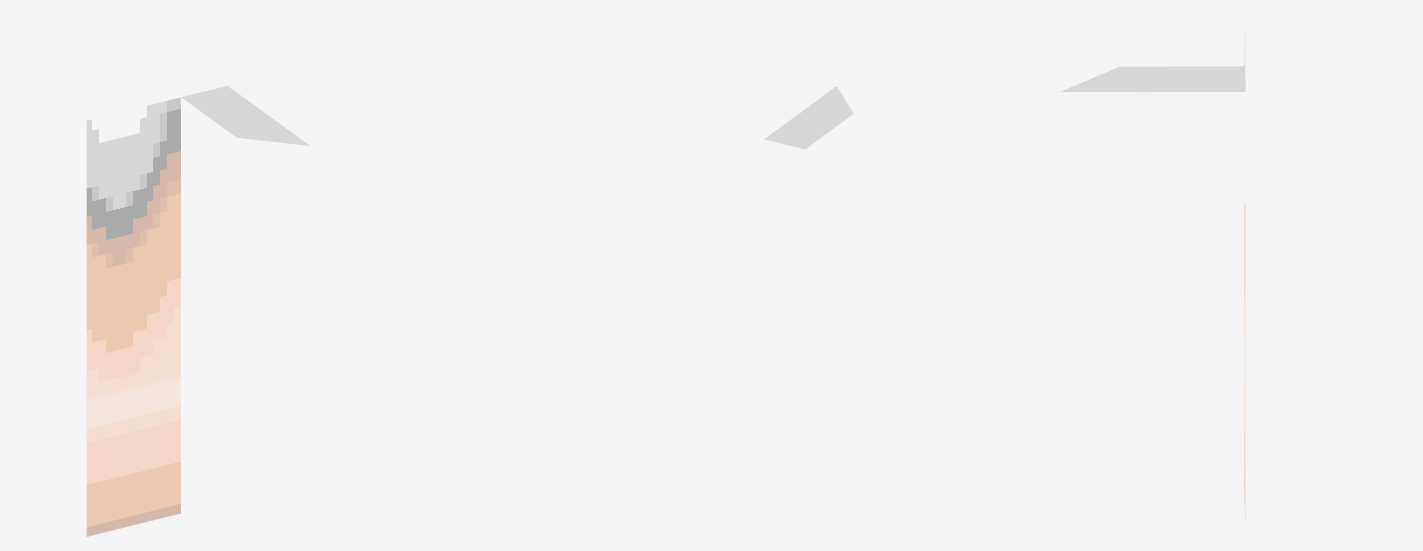
The picture shows the model from 3 angles, left to right: view 1: azimuth 30°, elevation 25°; view 2: azimuth 150°, elevation 25°; view 3: azimuth 270°, elevation 25°; orthographic projection. The views are drawn at different scales.
Size of the model in its own units: 1.38 by 1.59 by 1.5.
Materials: 1 (1 with a texture image).
